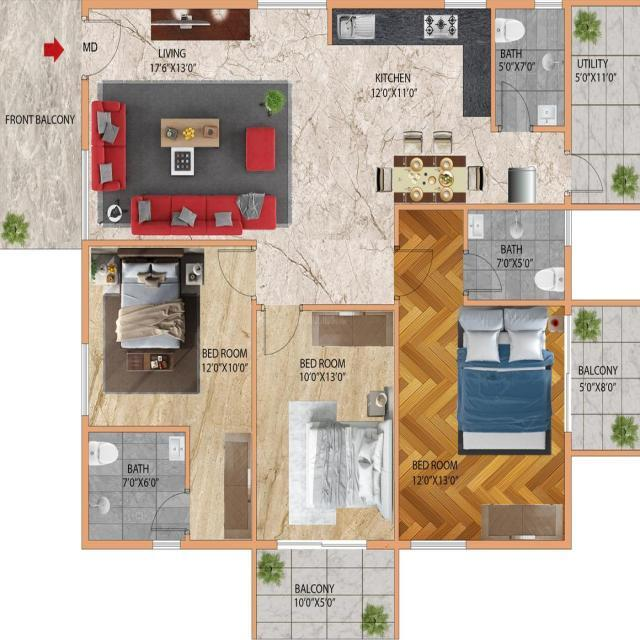Balcony-Sitout: (0, 2, 81, 248), (249, 539, 402, 638), (569, 297, 640, 451)
Bedroom: (251, 302, 400, 546)
Bedroom with Toilet: (394, 208, 573, 544), (81, 240, 254, 546)
Kitchen: (326, 0, 496, 202)
Living: (82, 2, 328, 243)
Toilet: (82, 428, 192, 553), (491, 0, 571, 134), (464, 208, 566, 306)
Utility: (565, 4, 640, 215)
